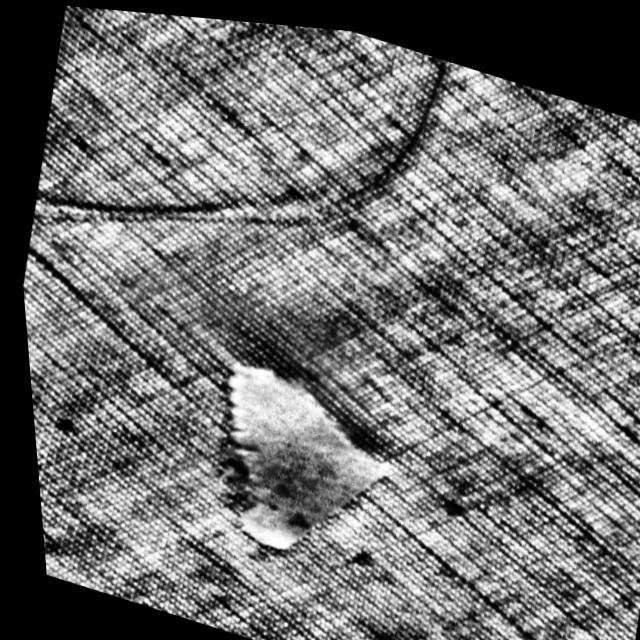Stitch: (13, 1, 469, 340), (177, 342, 402, 577)
